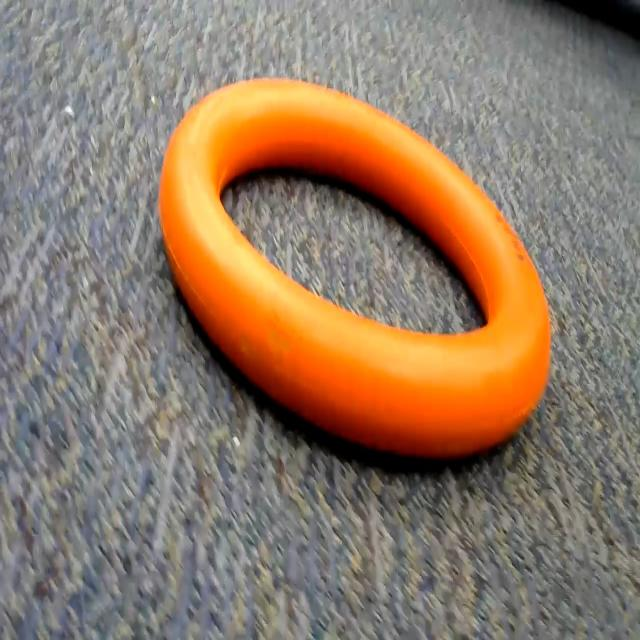note: (152, 74, 580, 497)
